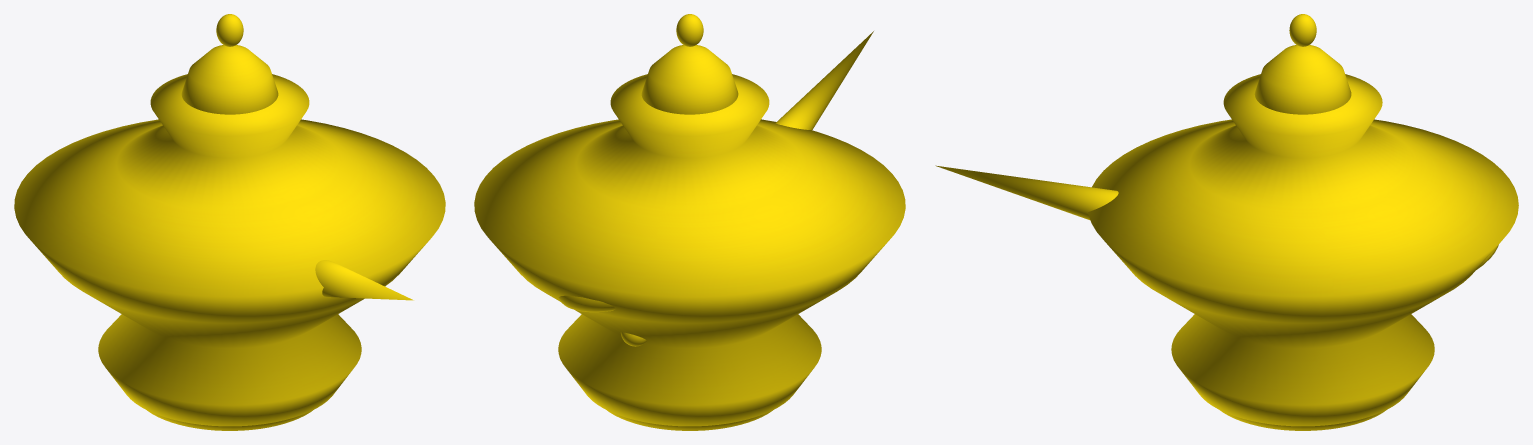
Rendered from ai_parts_95dd66.glb.
3 views of the same model, side by side, from view 1: azimuth 30°, elevation 25°; view 2: azimuth 150°, elevation 25°; view 3: azimuth 270°, elevation 25° (orthographic).
Visible parts, largest first — view 1: 00_lamp_body, 05_lid_dome, 01_spout, 06_lid_knob, 07_base_pedestal; view 2: 00_lamp_body, 05_lid_dome, 01_spout, 06_lid_knob, 07_base_pedestal, 02_handle_loop; view 3: 00_lamp_body, 05_lid_dome, 01_spout, 06_lid_knob, 07_base_pedestal.
Boxes of the visible parts, x1,y1,x2,y2 form: 00_lamp_body: (14, 74, 445, 426); 05_lid_dome: (181, 45, 278, 114); 01_spout: (315, 260, 413, 300); 06_lid_knob: (216, 14, 243, 46); 07_base_pedestal: (147, 410, 312, 430); 00_lamp_body: (474, 74, 905, 426); 05_lid_dome: (641, 45, 738, 114); 01_spout: (775, 31, 873, 130); 06_lid_knob: (676, 14, 703, 46); 07_base_pedestal: (607, 410, 772, 430); 02_handle_loop: (558, 295, 615, 312); 00_lamp_body: (1088, 74, 1518, 426); 05_lid_dome: (1254, 45, 1351, 114); 01_spout: (935, 165, 1118, 220); 06_lid_knob: (1289, 14, 1316, 46); 07_base_pedestal: (1220, 410, 1385, 430).
Size of the model in its own units: 19 by 18.25 by 25.74.
1 material, 1 textured.
